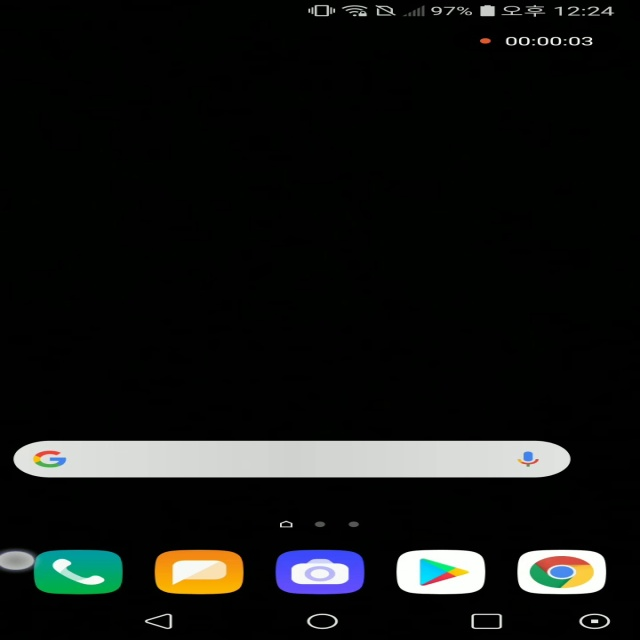Cursor: (1, 551, 40, 573)
